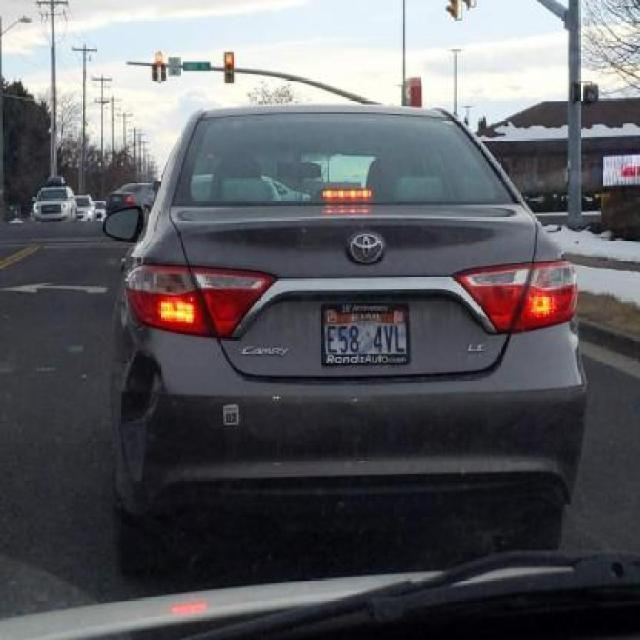rear-bumper-dent: (76, 317, 286, 539)
